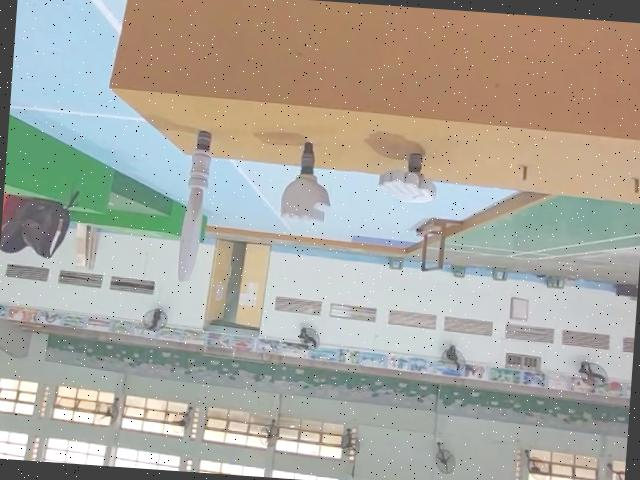Fist: (275, 138, 336, 226)
Hand: (370, 147, 438, 207)
Sph: (176, 122, 217, 283)
